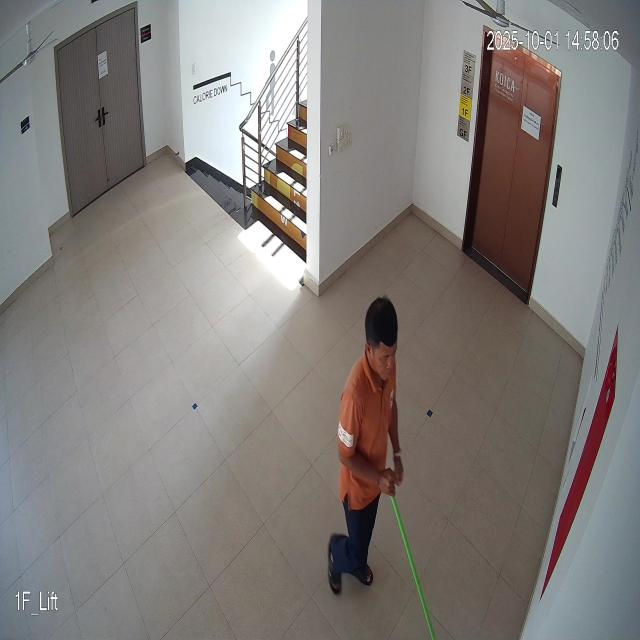face: (361, 289, 400, 389)
